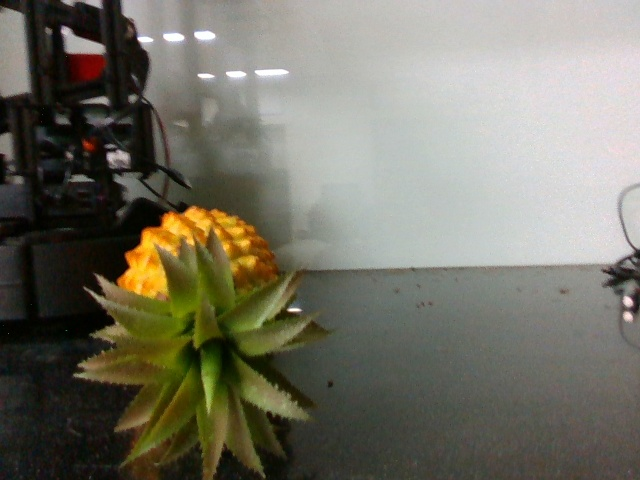pineapple: (97, 201, 305, 454)
